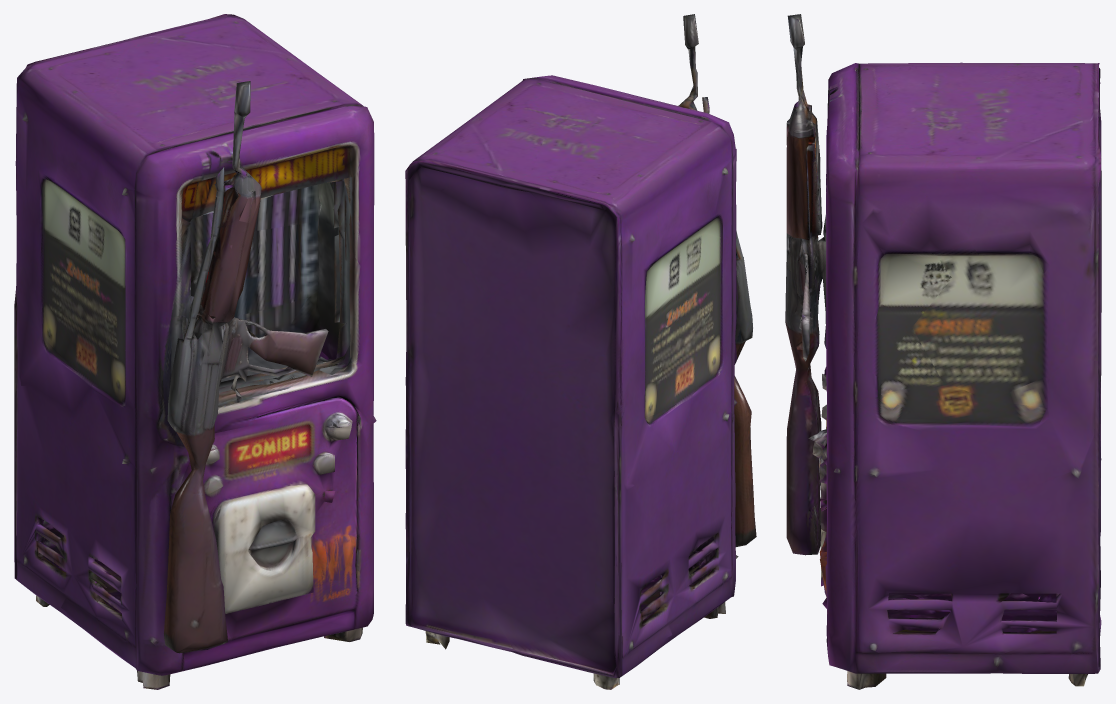
File: rifleMachine.glb
The picture shows the model from 3 angles, left to right: view 1: azimuth 30°, elevation 25°; view 2: azimuth 150°, elevation 25°; view 3: azimuth 270°, elevation 25°; orthographic projection. The views are drawn at different scales.
Size of the model in its own units: 0.8381 by 2 by 0.9536.
Materials: 1 (1 with a texture image).
